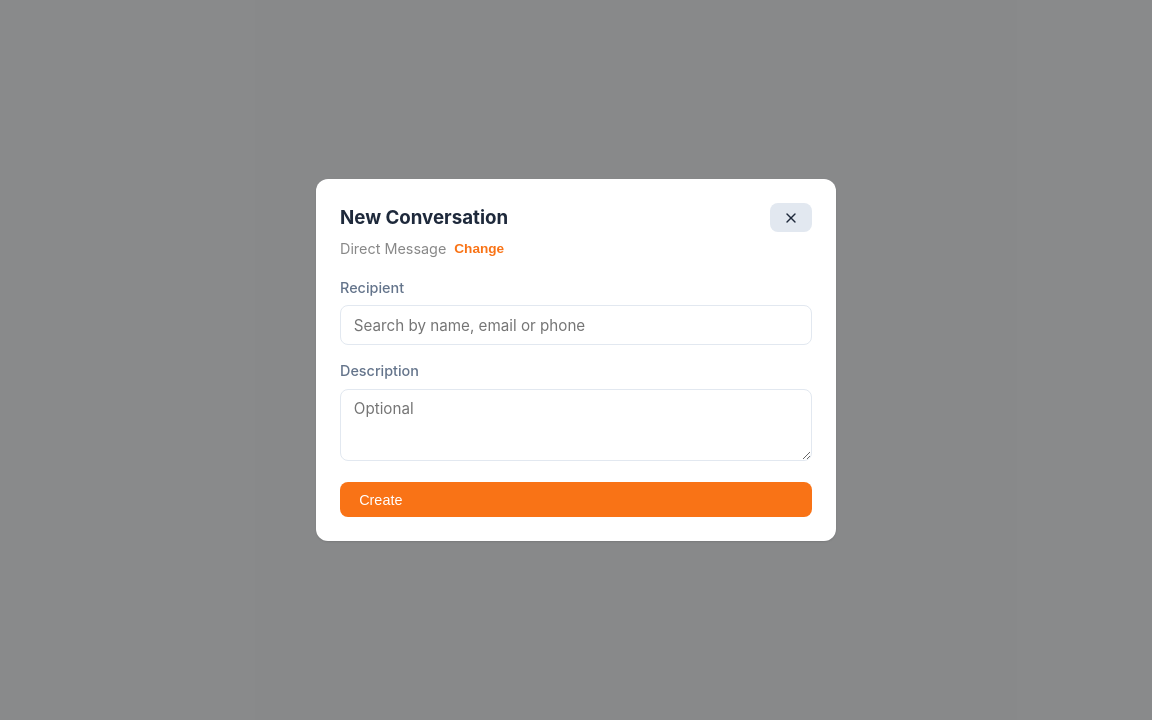
Test: new conversation form › refuses to create a conversation with nobody in it
Click the button "Create".
click(381, 500)  # box [340,482,812,517]
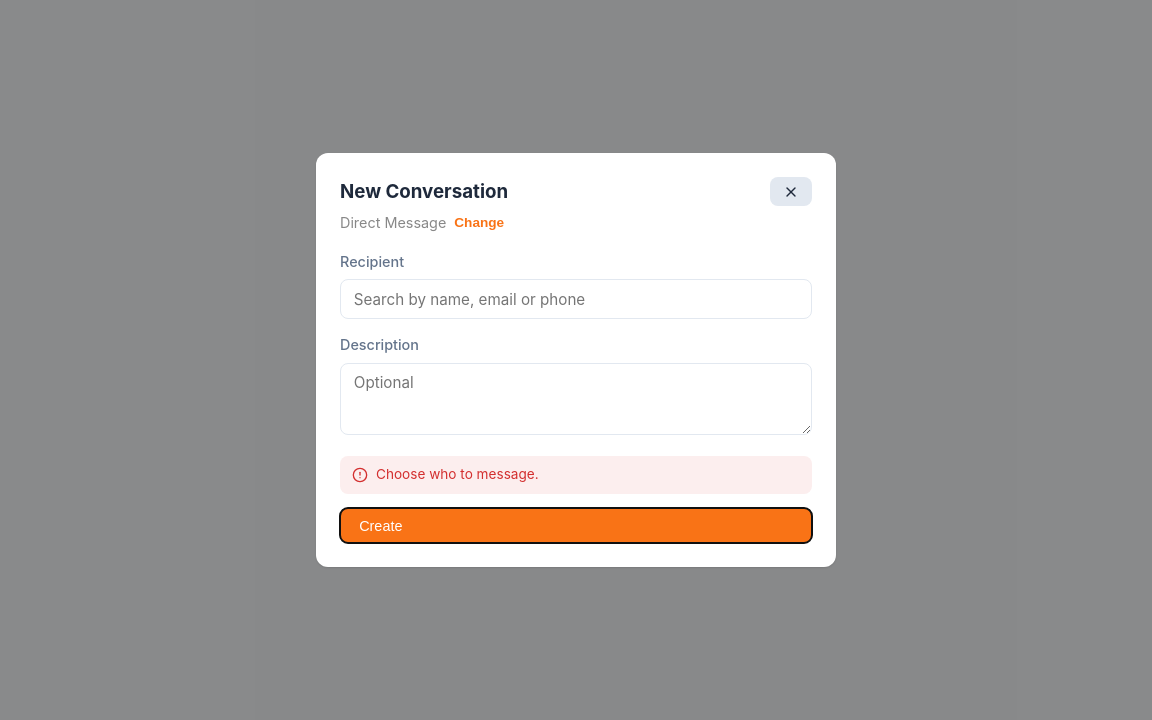
expect the text "Choose who to message." is shown: met, box [340,456,812,494]
